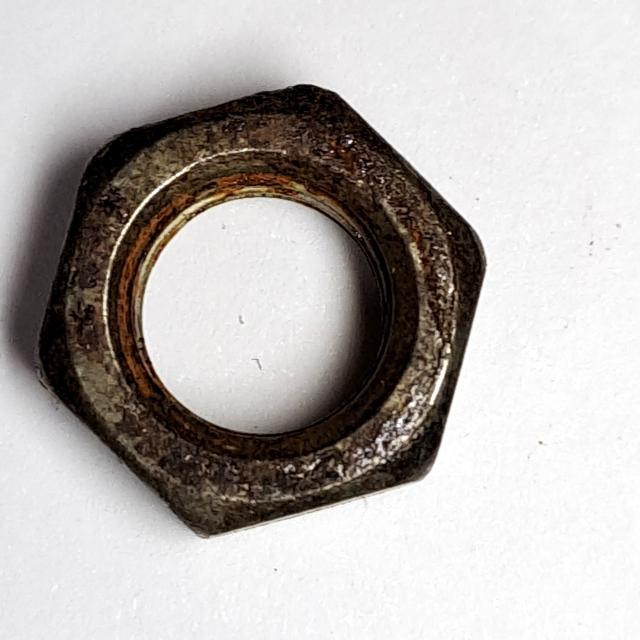Rust: (23, 68, 496, 556)
